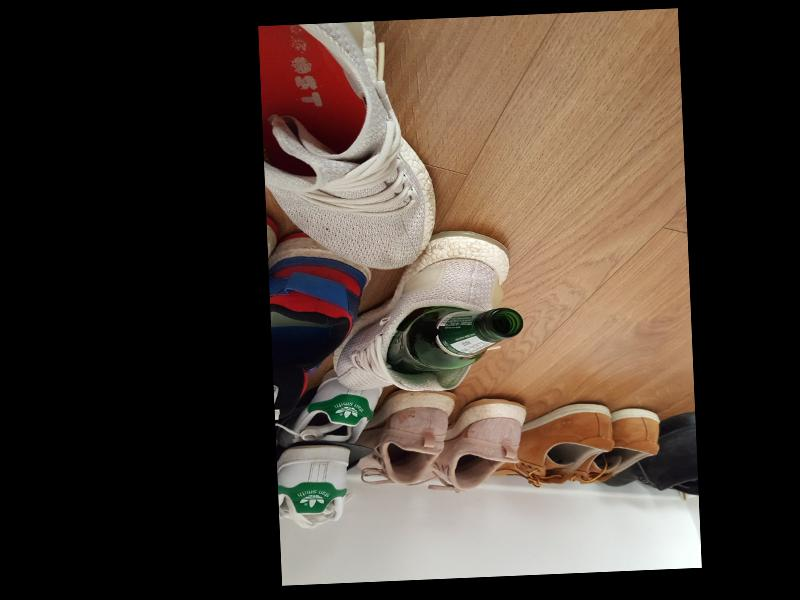Beer: (386, 305, 525, 375)
